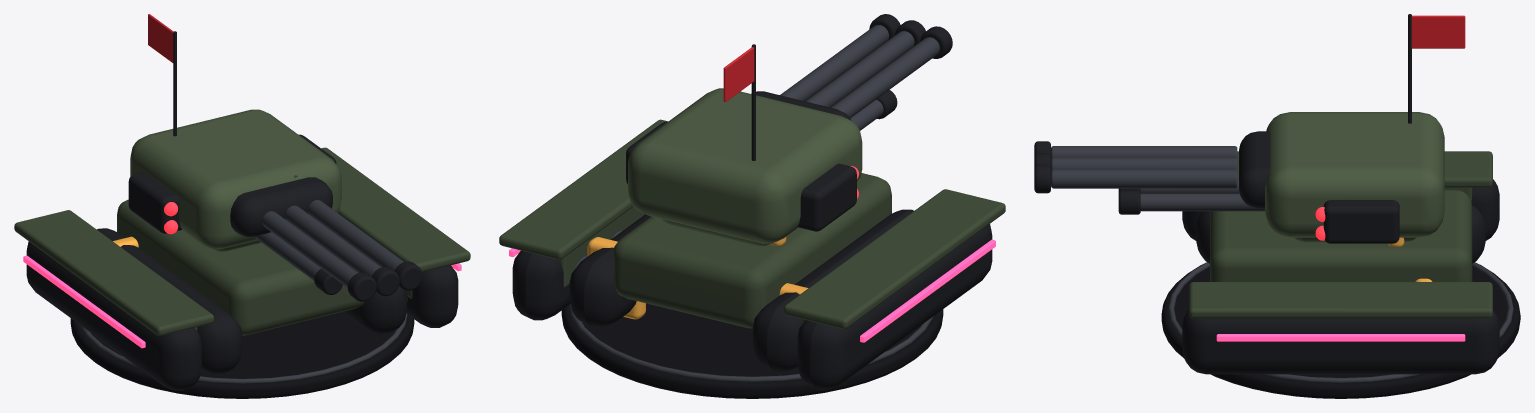
The model's file is bjoern.glb.
3 views of the same model, side by side, from view 1: azimuth 30°, elevation 25°; view 2: azimuth 150°, elevation 25°; view 3: azimuth 270°, elevation 25° (orthographic). The views are drawn at different scales.
Parts seen in each view (by area): view 1: op4.003_net, vogn_net, op4.004_net, fod_net, vaaben5_net, drej_net, vaaben_net, op4.002_net, op3_net; view 2: op4.003_net, vogn_net, op4.004_net, fod_net, vaaben5_net, drej_net, op4.002_net, op1.001_net, vaaben_net, op4.001_net, op3_net; view 3: op4.003_net, op4.004_net, vogn_net, vaaben5_net, fod_net, op2_net, vaaben_net, op4.002_net, op3_net.
Part boxes in pixels (<box>): op4.003_net: <box>14,147,470,390</box>; vogn_net: <box>97,199,407,374</box>; op4.004_net: <box>130,109,341,249</box>; fod_net: <box>70,312,414,398</box>; vaaben5_net: <box>230,177,422,301</box>; drej_net: <box>128,172,261,251</box>; vaaben_net: <box>255,232,342,294</box>; op4.002_net: <box>148,14,173,62</box>; op3_net: <box>173,31,297,177</box>; op4.003_net: <box>499,119,1005,389</box>; vogn_net: <box>569,173,913,371</box>; op4.004_net: <box>628,88,862,243</box>; fod_net: <box>561,303,943,398</box>; vaaben5_net: <box>751,14,952,120</box>; drej_net: <box>661,163,858,246</box>; op4.002_net: <box>723,47,786,245</box>; op1.001_net: <box>559,207,645,287</box>; vaaben_net: <box>850,90,897,130</box>; op4.001_net: <box>587,237,645,319</box>; op3_net: <box>751,44,755,160</box>; op4.003_net: <box>1182,151,1499,374</box>; op4.004_net: <box>1265,112,1444,237</box>; vogn_net: <box>1196,189,1485,281</box>; vaaben5_net: <box>1034,131,1270,208</box>; fod_net: <box>1161,262,1520,398</box>; op2_net: <box>1315,200,1399,243</box>; vaaben_net: <box>1118,178,1264,214</box>; op4.002_net: <box>1388,15,1465,246</box>; op3_net: <box>1272,14,1411,158</box>.
Bounding box in the file's own units: 2.8 × 2.34 × 3.52.
